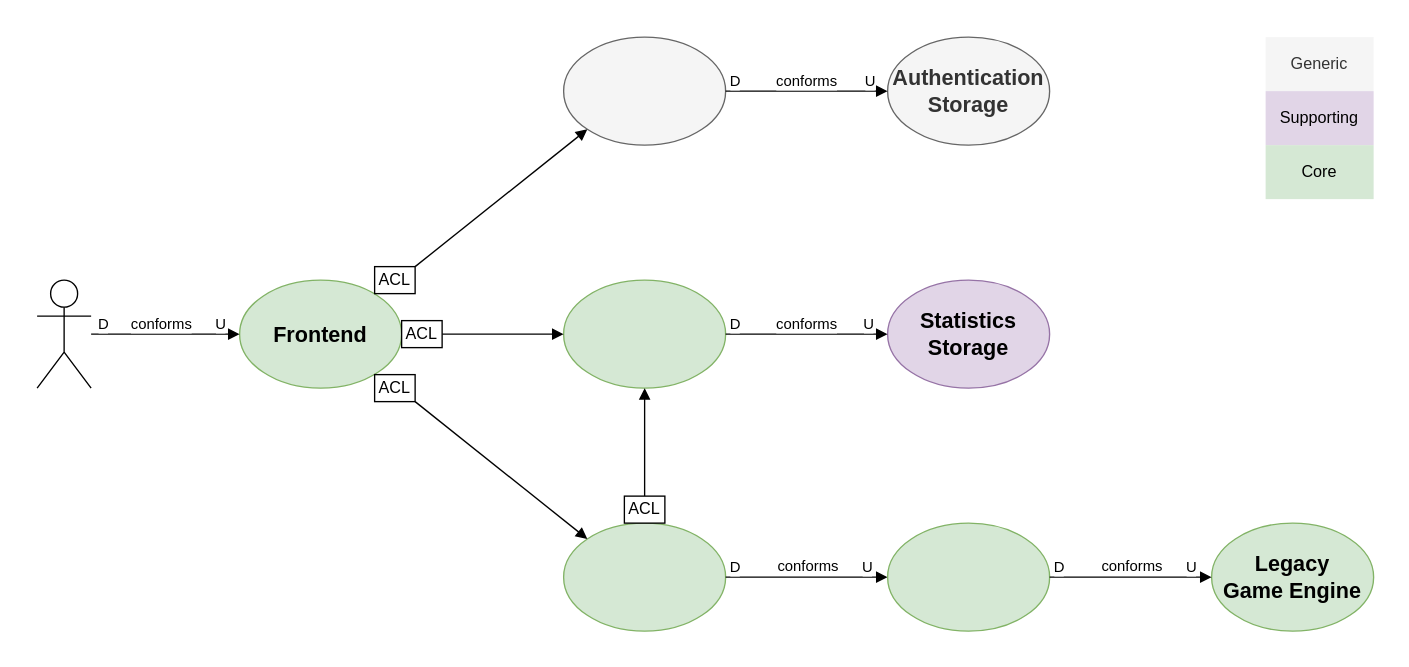
Image size: 1409x667. Some labels were removed from this diagram. The centre of each missing label's shape, as x and y in pixels:
Authentication: point 644,90
Game Executor: point 968,576
Game Manager: point 644,576
Statistics: point 644,333
User: point 63,333
